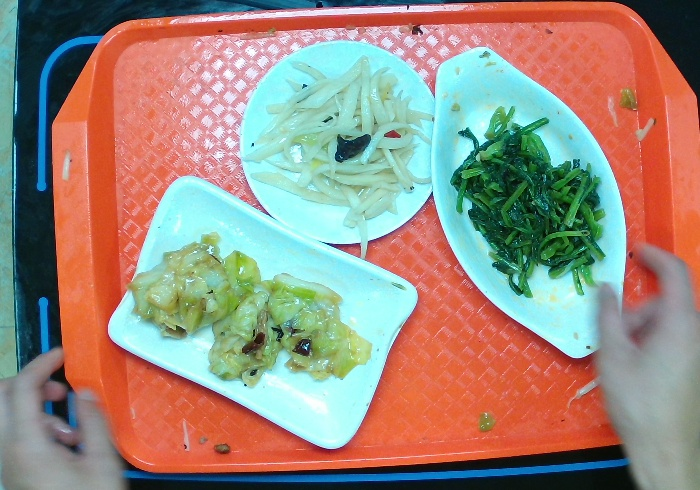RJxy-Si_Fang_Ao_Bian_Wan: (104, 172, 423, 455)
RJxy-Xiao_Yuan_Die: (238, 38, 441, 248)
RJxy-Yu_Pan: (426, 44, 628, 365)
